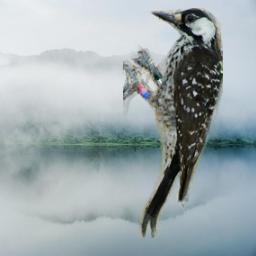Woodpecker: (123, 8, 223, 238)
